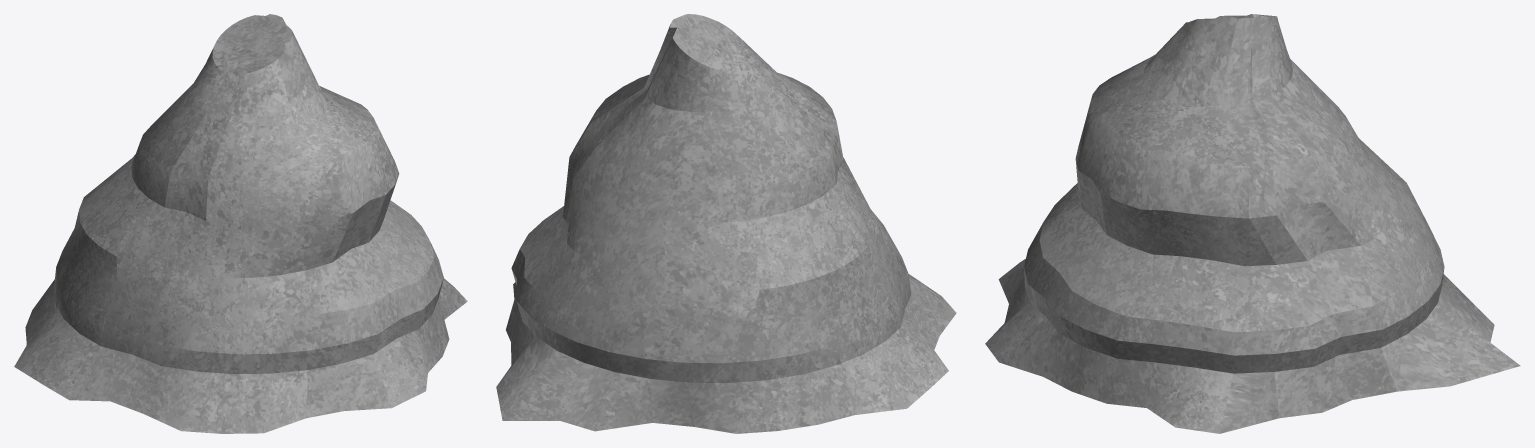
Rendered from BrokenSpike.fbx.
The picture shows the model from 3 angles, left to right: view 1: azimuth 30°, elevation 25°; view 2: azimuth 150°, elevation 25°; view 3: azimuth 270°, elevation 25°; orthographic projection. The views are drawn at different scales.
Visible parts, largest first — view 1: Broken spike; view 2: Broken spike; view 3: Broken spike.
Boxes of the visible parts, left/top/right/bottom form: Broken spike: left=14, top=14, right=467, bottom=433; Broken spike: left=496, top=14, right=956, bottom=433; Broken spike: left=985, top=14, right=1520, bottom=433.
Size of the model in its own units: 224 by 158 by 233.
